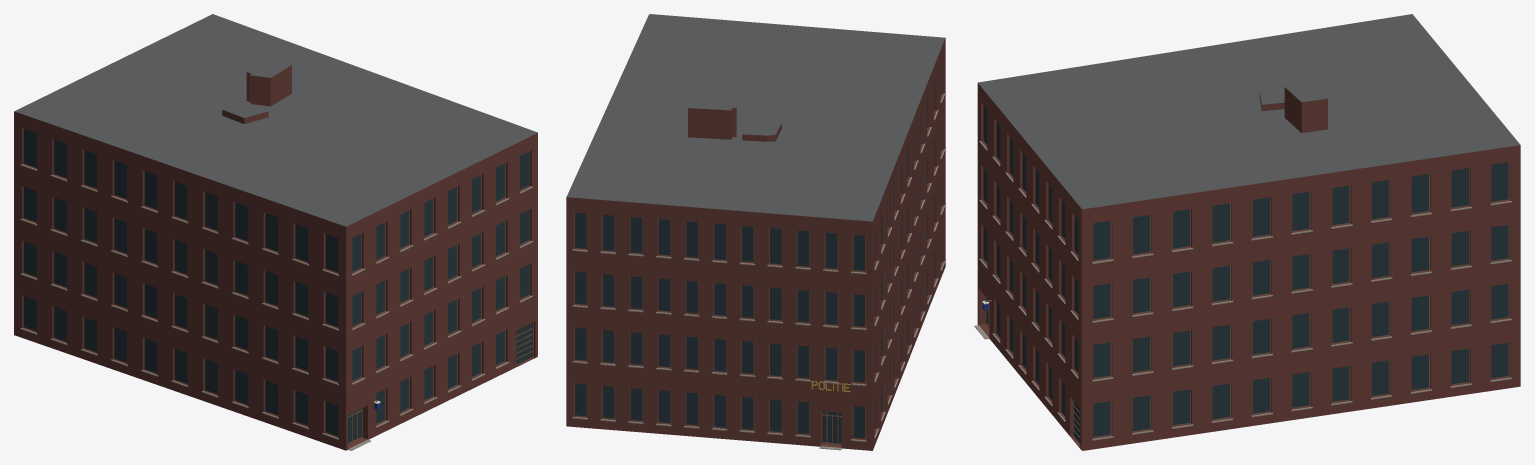
Rendered from recipe-large-politie-oost-watergraafsmeer.glb.
3 renders of one model, left to right at view 1: azimuth 30°, elevation 25°; view 2: azimuth 150°, elevation 25°; view 3: azimuth 270°, elevation 25°, orthographic. The views are drawn at different scales.
Parts seen in each view (by area): view 1: politie-oost-watergraafsmeer; view 2: politie-oost-watergraafsmeer; view 3: politie-oost-watergraafsmeer.
Boxes of the visible parts, x1,y1,x2,y2 form: politie-oost-watergraafsmeer: (14, 14, 537, 450); politie-oost-watergraafsmeer: (566, 14, 945, 450); politie-oost-watergraafsmeer: (974, 14, 1520, 450).
Size of the model in its own units: 34.07 by 22.16 by 40.27.
